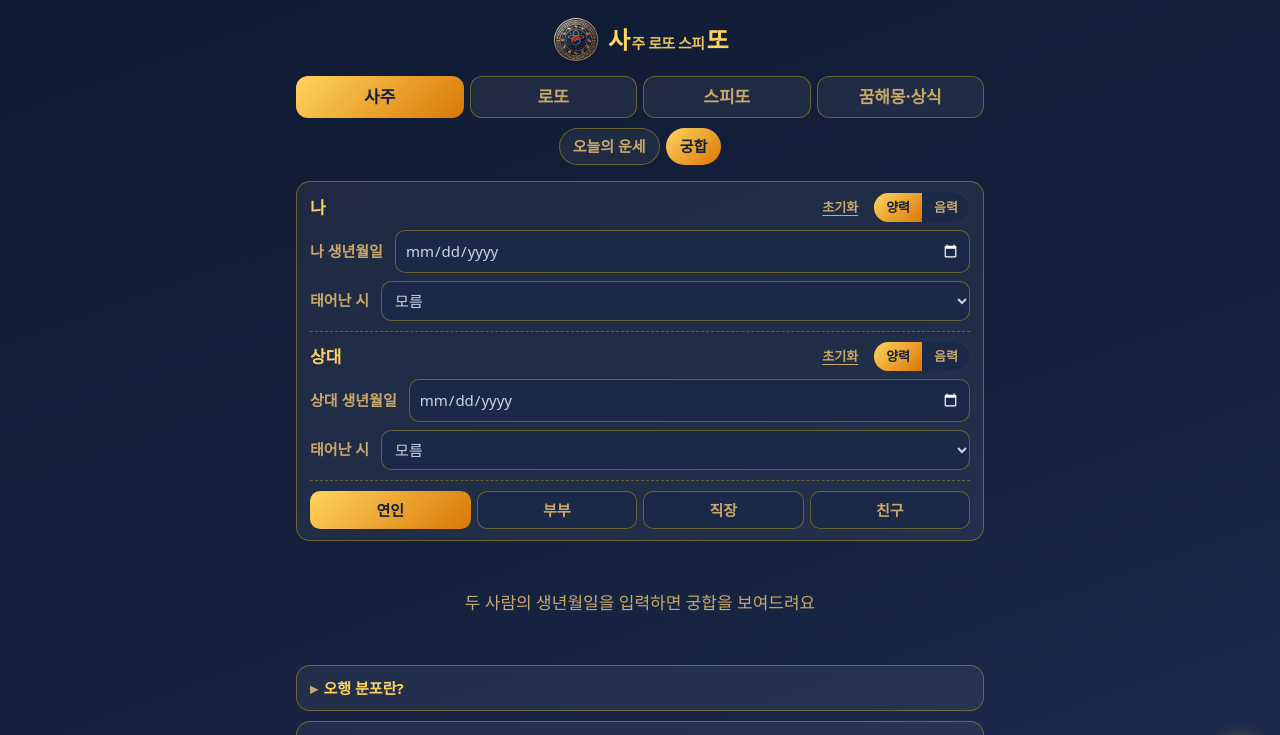
Test: 로또 대메뉴의 하위: 띠별/사주/로또 추천/1등 배출점, 기본은 띠별 번호
Step 1. Click the link "로또" → {"x": 553, "y": 97}, box [470,76,637,118]
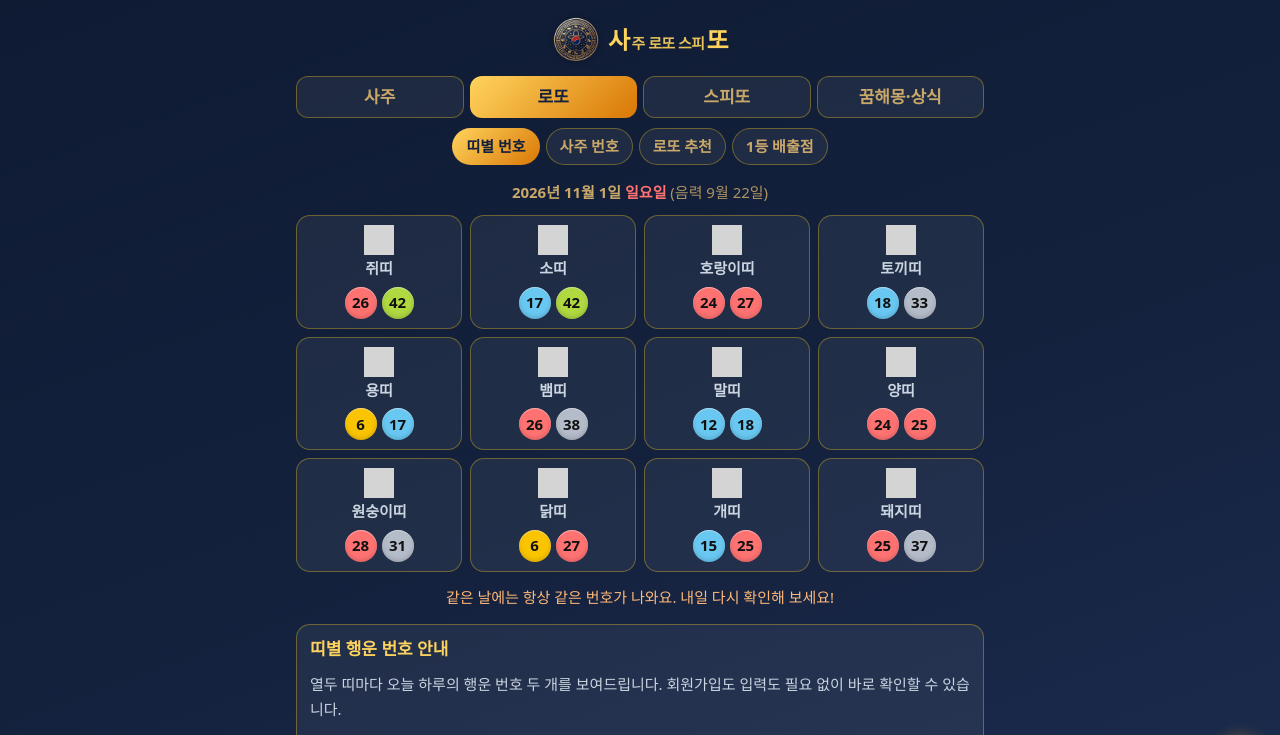
expect the element with class "zodiac-grid" shows "쥐띠": met, box [365,258,393,278]
